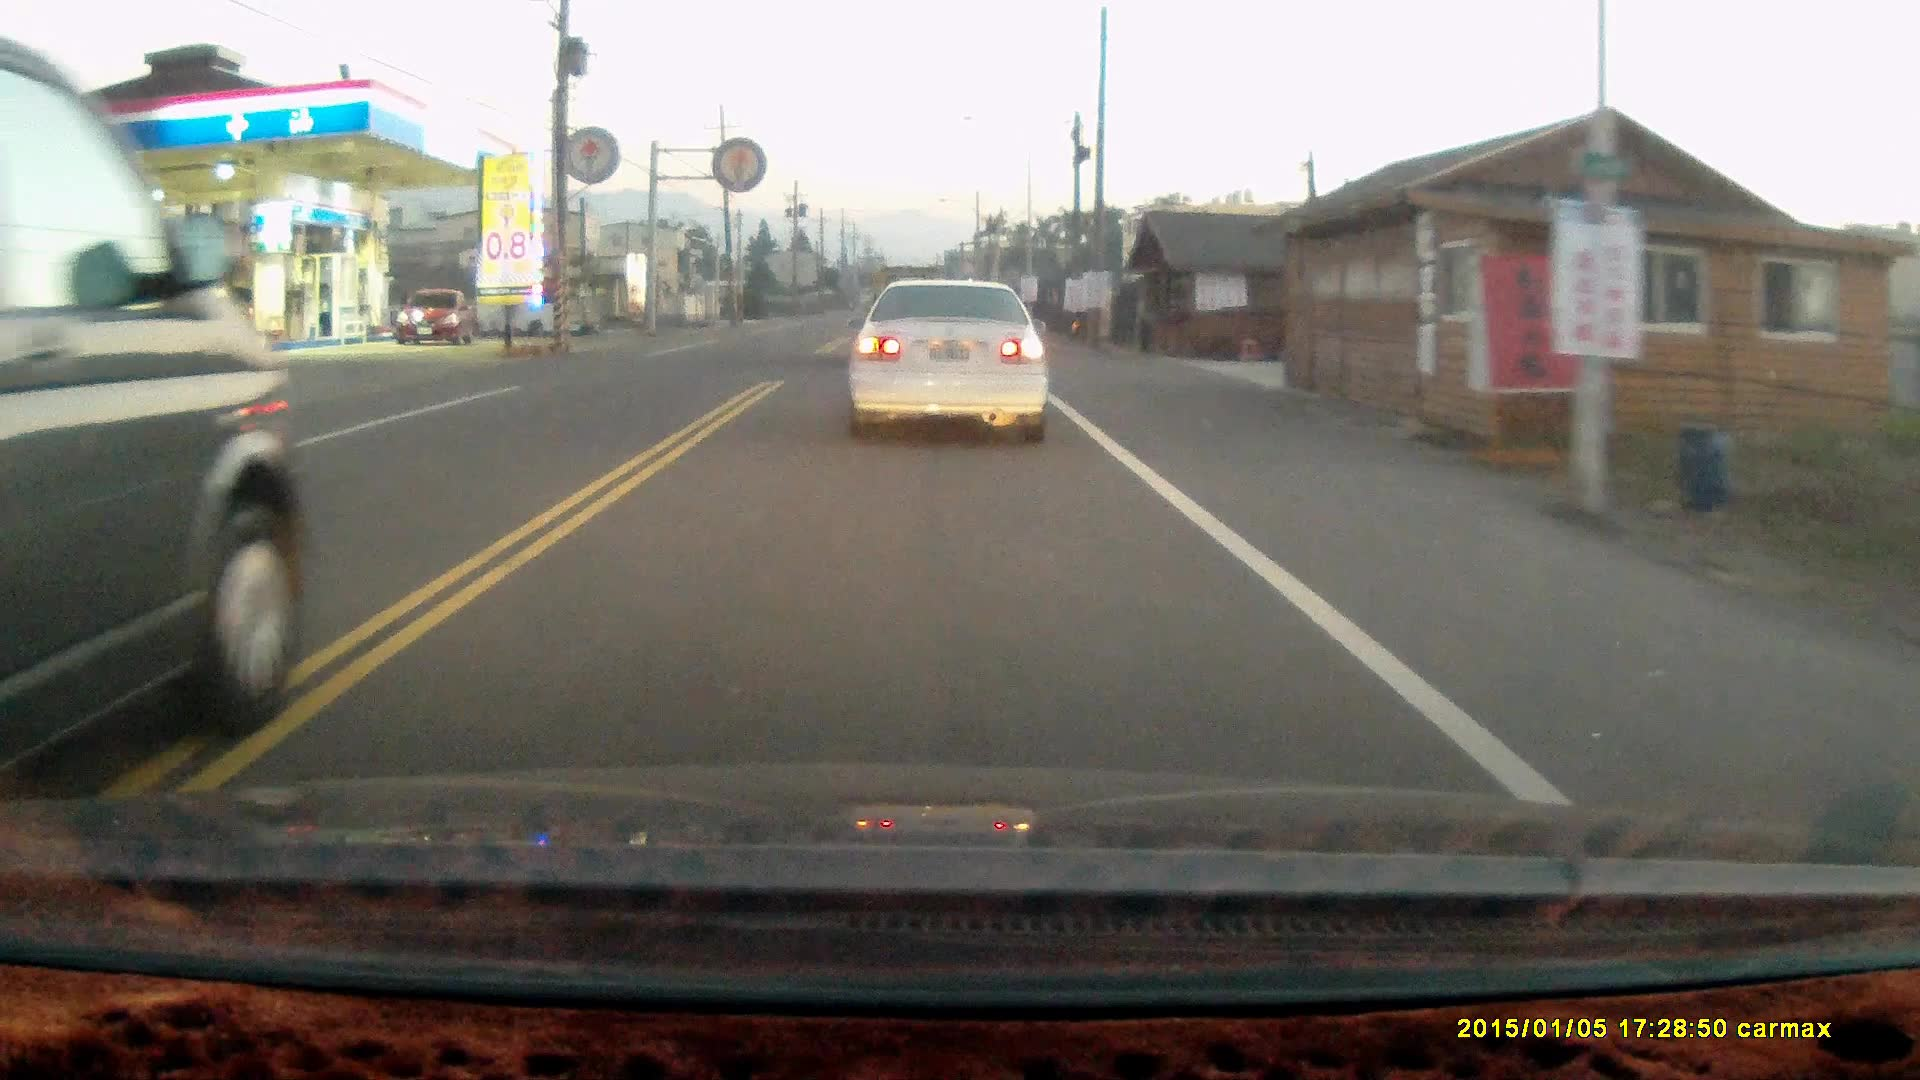vehicle: (1, 44, 301, 787), (847, 280, 1054, 456), (393, 291, 475, 345)
